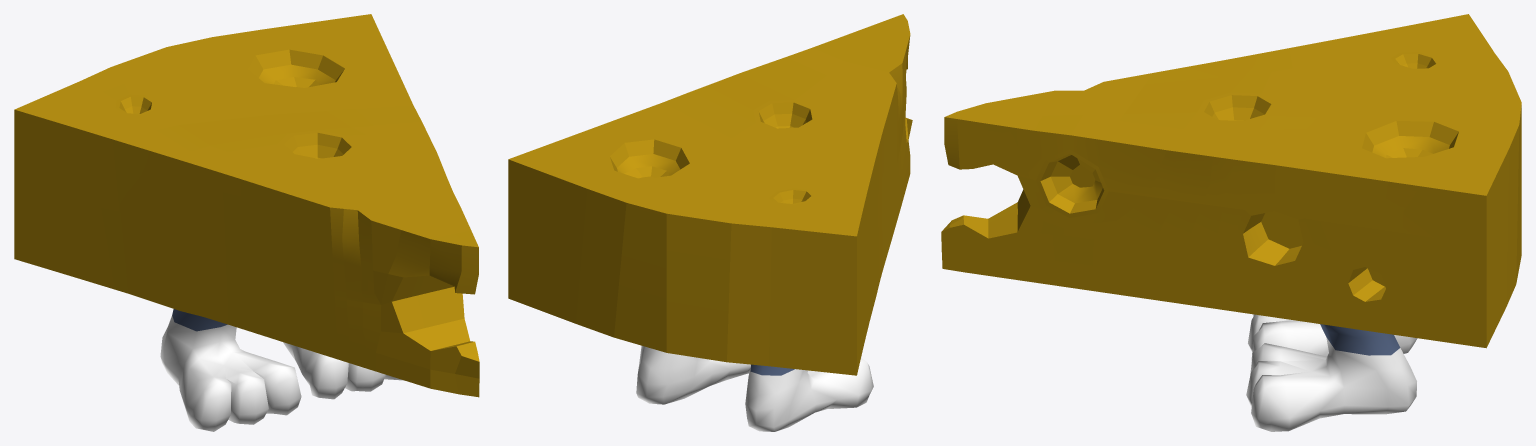
The model's file is Cheese_Idle.dae.
3 renders of one model, left to right at view 1: azimuth 30°, elevation 25°; view 2: azimuth 150°, elevation 25°; view 3: azimuth 270°, elevation 25°, orthographic. The views are drawn at different scales.
Parts seen in each view (by area): view 1: cheese_polySurface7, polySurface5, polySurface4; view 2: cheese_polySurface7, polySurface5, polySurface4; view 3: cheese_polySurface7, polySurface4, polySurface5.
Boxes of the visible parts, left/top/right/bottom form: cheese_polySurface7: left=14, top=14, right=479, bottom=397; polySurface5: left=160, top=309, right=301, bottom=431; polySurface4: left=283, top=342, right=403, bottom=399; cheese_polySurface7: left=508, top=14, right=912, bottom=375; polySurface5: left=745, top=358, right=873, bottom=431; polySurface4: left=636, top=346, right=750, bottom=404; cheese_polySurface7: left=941, top=14, right=1521, bottom=348; polySurface4: left=1246, top=324, right=1416, bottom=431; polySurface5: left=1248, top=314, right=1417, bottom=360.
Bounding box in the file's own units: 6.85 × 4.88 × 9.25.
